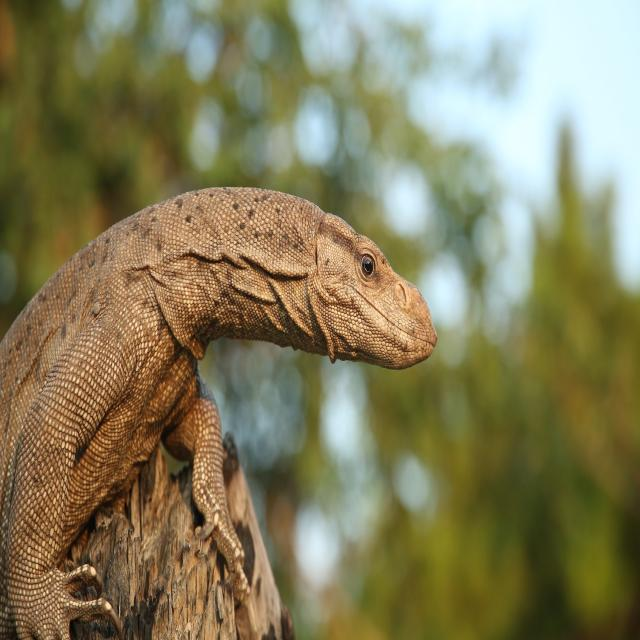Lizard: (0, 181, 442, 640)
